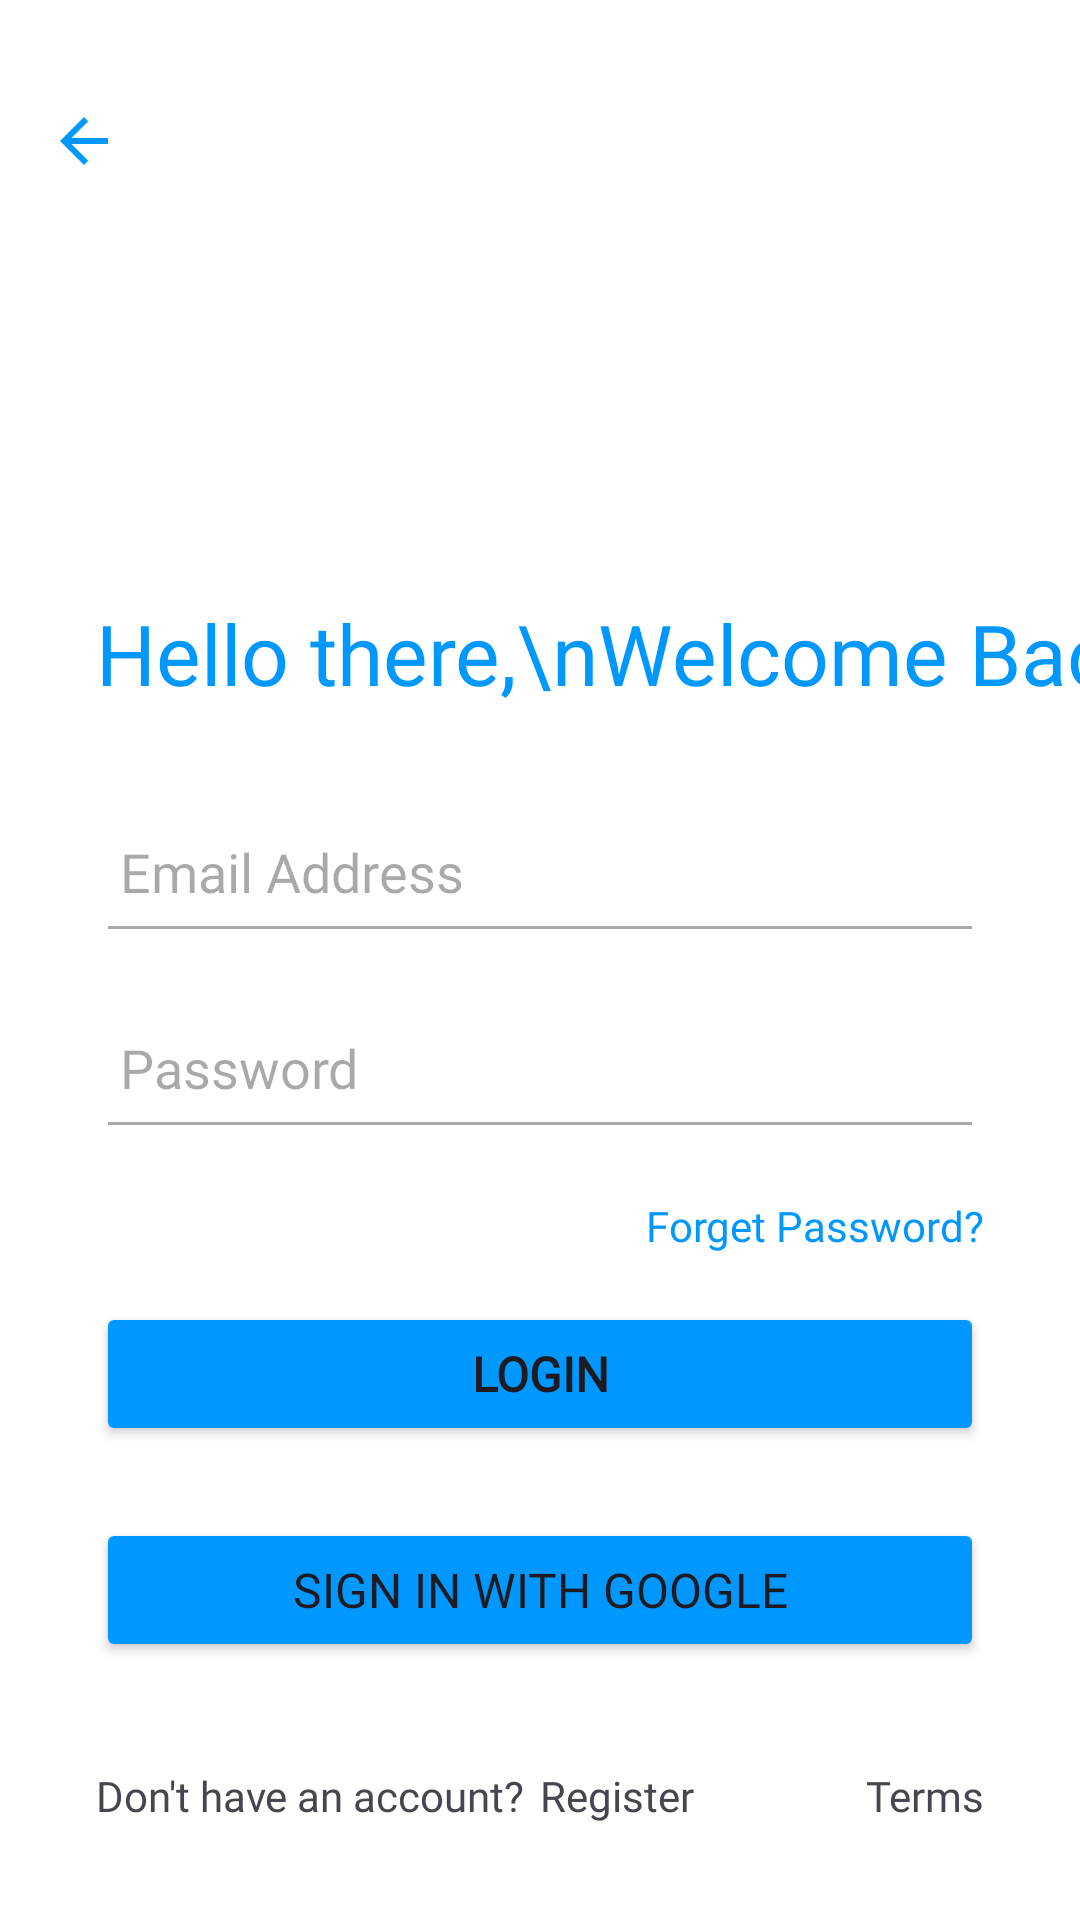

Screen size 1080x1920. Icon name, then its box in pixels as (x1, y1, x2, y2):
arrow back: (60, 117, 108, 165)
